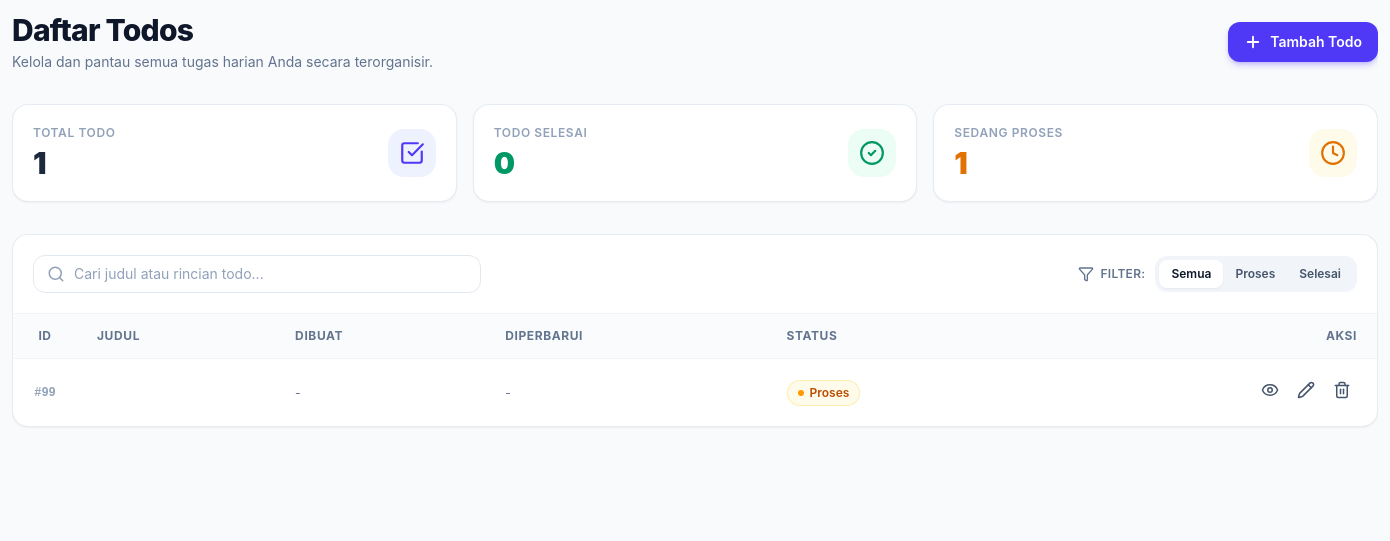
Test: HomePage › should handle search against todos with null title and description
Type "xyz" into the field with test id "search-todo-input".
click(257, 274); type("xyz")  # box [33,255,481,293]
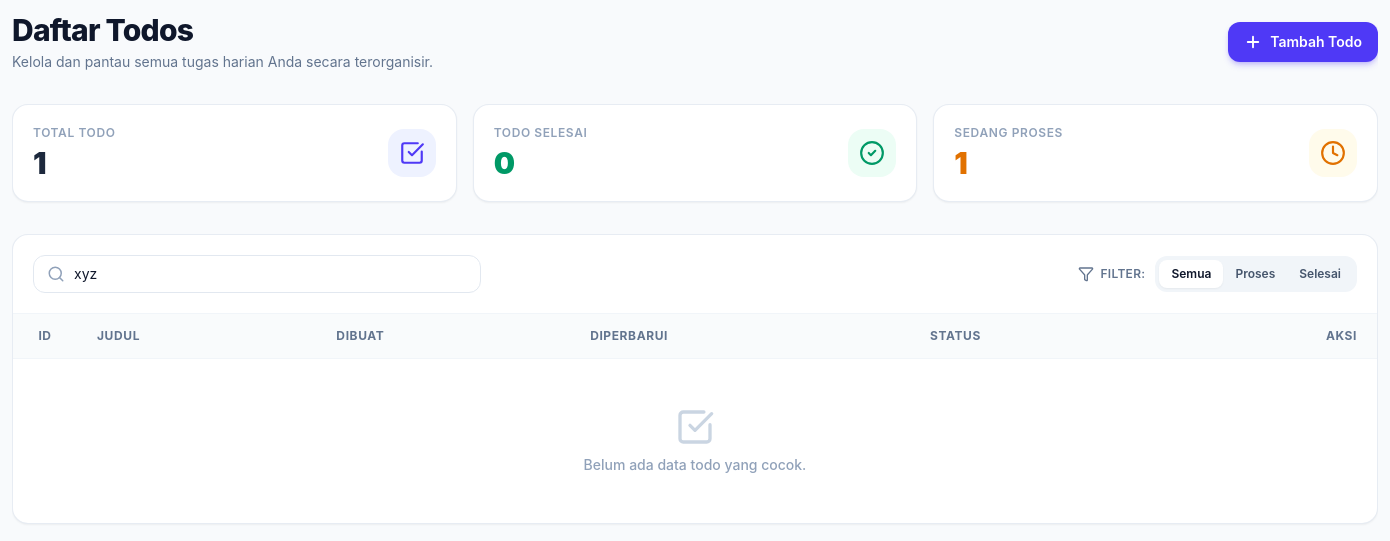
Expected: the text "Belum ada data todo yang cocok." is shown, [584,456,806,473]
